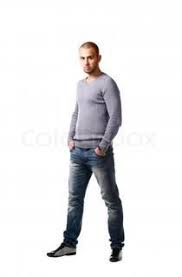standing: (43, 38, 136, 265)
